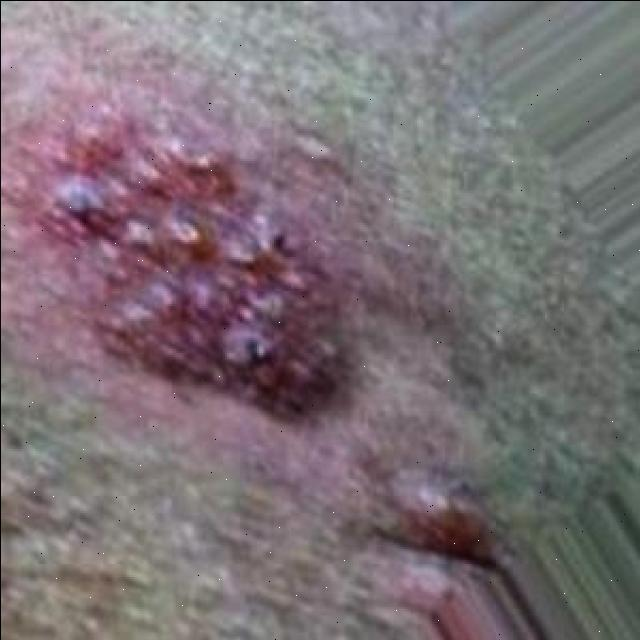Shingles: (49, 118, 346, 420)
